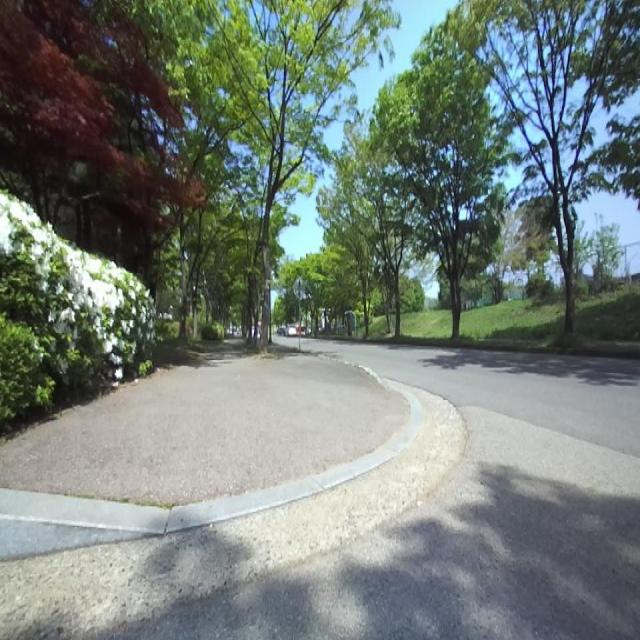sidewalk: (0, 341, 409, 505), (0, 388, 425, 536)
